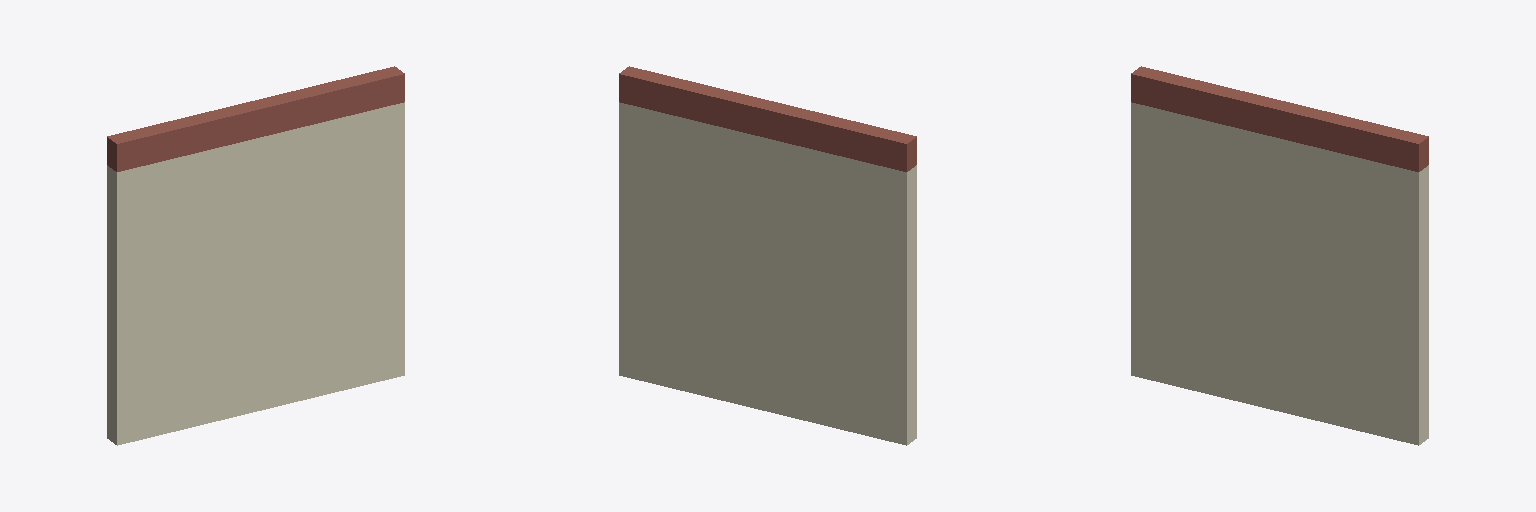
3 renders of one model, left to right at view 1: azimuth 30°, elevation 25°; view 2: azimuth 150°, elevation 25°; view 3: azimuth 330°, elevation 25°, orthographic.
Parts seen in each view (by area): view 1: object 1; view 2: object 1; view 3: object 1.
Part boxes in pixels (left/top/right/bottom): object 1: left=107, top=66, right=404, bottom=445; object 1: left=619, top=66, right=916, bottom=445; object 1: left=1131, top=66, right=1428, bottom=445.
Bounding box in the file's own units: 3.2 × 3.2 × 0.2.
1 materials, 1 textured.